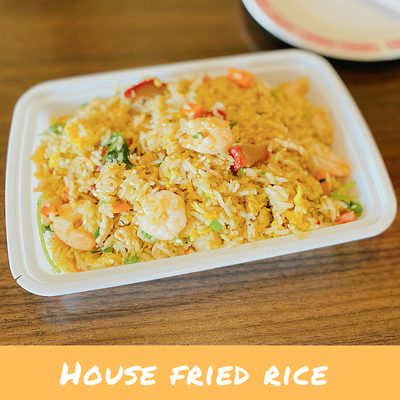curry: (100, 130, 132, 167)
